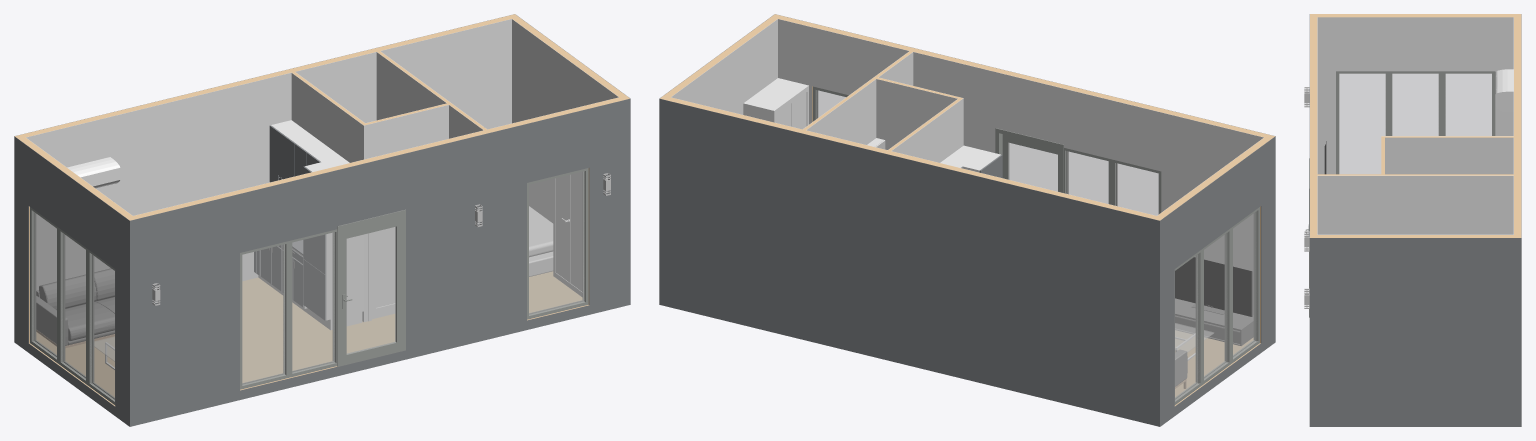
The model's file is Romualda_Naujoji Vilnia(3,2x8,0m).fbx.
3 views of the same model, side by side, from view 1: azimuth 30°, elevation 25°; view 2: azimuth 150°, elevation 25°; view 3: azimuth 270°, elevation 25° (orthographic). The views are drawn at different scales.
Visible parts, largest first — view 1: IfcWall/Part:2319977, IfcWall/Part:2319982, IfcWindow/Aluprof_MB-86-SI_E_Alu_Window-1sash-FIX_ENG_R-000. (×4), IfcWall/Part:2368366, IfcSlab/Part:2319985, IfcDoor/Simple_vitree_-_03:1000x2100:2303655, IfcWindow/Aluprof_MB-86-SI_E_Alu_Window-1sash-FIX_ENG_R-0004, IfcWindow/Aluprof_MB-86-SI_E_Alu_Window-1sash-FIX_ENG_R-000, IfcWall/Part:2319979, IfcFurnishingElement/Kitchen_Cabinets_Marbodal_High-cabinet-, IfcFurnishingElement/Bolia - North Seater Sofa:2 1/2 Seater:, IfcWall/Part:2321694 (+15 smaller); view 2: IfcWall/Part:2319983, IfcWall/Part:2319976, IfcWindow/Aluprof_MB-86-SI_E_Alu_Window-1sash-FIX_ENG_R-000. (×4), IfcWall/Part:2368366, IfcWall/Part:2319979, IfcDoor/Simple_vitree_-_03:1000x2100:2303655, IfcWall/Part:2319971, IfcBuildingElementProxy/TV Sony1:TV Sony 2:2319310, IfcWall/Part:2321861, IfcFurnishingElement/Cabinet_-_Storage:960 x 500 x 2100mm:23, IfcWall/Part:2321694, IfcWall/Part:2319978 (+10 smaller); view 3: IfcWall/Part:2319980, IfcWall/Part:2368365, IfcWindow/Aluprof_MB-86-SI_E_Alu_Window-1sash-FIX_ENG_R-000. (×3), IfcWall/Part:2319967, IfcWall/Part:2321693, IfcWall/Part:2319984, IfcWall/Part:2319978, IfcEnergyConversionDevice/Fujitsu General_ASUA30-36TLAV2:ASU, IfcWall/Part:2368367, IfcWall/Part:2319981, IfcDoor/Simple_vitree_-_03:800x2100mm:2324605, IfcWall/Part:2319983 (+3 smaller).
Part boxes in pixels (<box>): IfcWall/Part:2319977: <box>129,98,630,426</box>; IfcWall/Part:2319982: <box>26,19,511,290</box>; IfcWindow/Aluprof_MB-86-SI_E_Alu_Window-1sash-FIX_ENG_R-000. (×4): <box>30,207,337,405</box>; IfcWall/Part:2368366: <box>14,136,129,426</box>; IfcSlab/Part:2319985: <box>36,271,582,396</box>; IfcDoor/Simple_vitree_-_03:1000x2100:2303655: <box>332,209,405,366</box>; IfcWindow/Aluprof_MB-86-SI_E_Alu_Window-1sash-FIX_ENG_R-0004: <box>527,168,588,319</box>; IfcWindow/Aluprof_MB-86-SI_E_Alu_Window-1sash-FIX_ENG_R-000: <box>240,241,290,389</box>; IfcWall/Part:2319979: <box>512,19,618,222</box>; IfcFurnishingElement/Kitchen_Cabinets_Marbodal_High-cabinet-: <box>303,157,363,329</box>; IfcFurnishingElement/Bolia - North Seater Sofa:2 1/2 Seater:: <box>36,268,114,347</box>; IfcWall/Part:2321694: <box>291,73,363,321</box>; IfcWall/Part:2319983: <box>659,98,1160,426</box>; IfcWall/Part:2319976: <box>778,19,1263,314</box>; IfcWindow/Aluprof_MB-86-SI_E_Alu_Window-1sash-FIX_ENG_R-000. (×4): <box>1064,148,1259,405</box>; IfcWall/Part:2368366: <box>1160,136,1275,426</box>; IfcWall/Part:2319979: <box>671,19,777,114</box>; IfcDoor/Simple_vitree_-_03:1000x2100:2303655: <box>995,128,1068,193</box>; IfcWall/Part:2319971: <box>876,79,957,149</box>; IfcBuildingElementProxy/TV Sony1:TV Sony 2:2319310: <box>1175,257,1252,316</box>; IfcWall/Part:2321861: <box>806,79,876,144</box>; IfcFurnishingElement/Cabinet_-_Storage:960 x 500 x 2100mm:23: <box>743,78,808,129</box>; IfcWall/Part:2321694: <box>892,98,963,162</box>; IfcWall/Part:2319978: <box>778,16,1274,138</box>; IfcWall/Part:2319980: <box>1309,238,1521,426</box>; IfcWall/Part:2368365: <box>1317,17,1513,174</box>; IfcWindow/Aluprof_MB-86-SI_E_Alu_Window-1sash-FIX_ENG_R-000. (×3): <box>1336,71,1495,174</box>; IfcWall/Part:2319967: <box>1317,175,1513,234</box>; IfcWall/Part:2321693: <box>1385,137,1513,174</box>; IfcWall/Part:2319984: <box>1514,14,1521,237</box>; IfcWall/Part:2319978: <box>1310,14,1317,234</box>; IfcEnergyConversionDevice/Fujitsu General_ASUA30-36TLAV2:ASU: <box>1495,69,1513,111</box>; IfcWall/Part:2368367: <box>1317,14,1513,17</box>; IfcWall/Part:2319981: <box>1310,235,1513,237</box>; IfcDoor/Simple_vitree_-_03:800x2100mm:2324605: <box>1320,227,1378,234</box>; IfcWall/Part:2319983: <box>1521,14,1521,426</box>.
Bounding box in the file's own units: 800 × 315 × 328.
